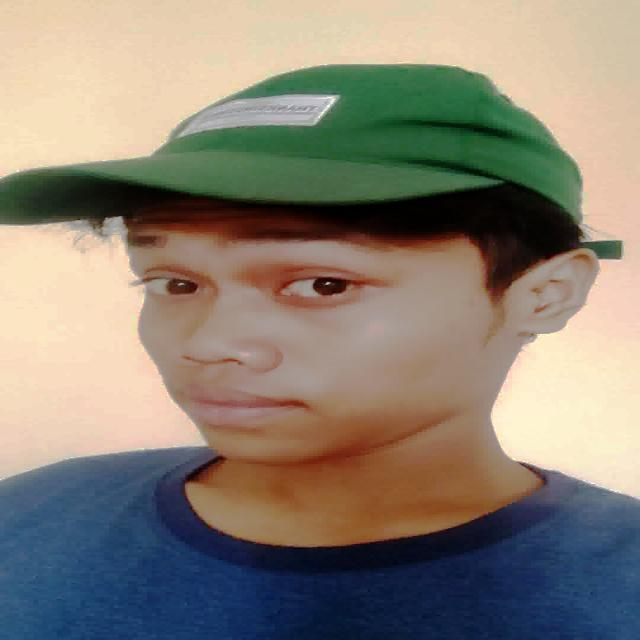TOPI: (2, 55, 617, 251)
